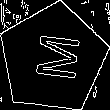M_W: (25, 33, 80, 84)
